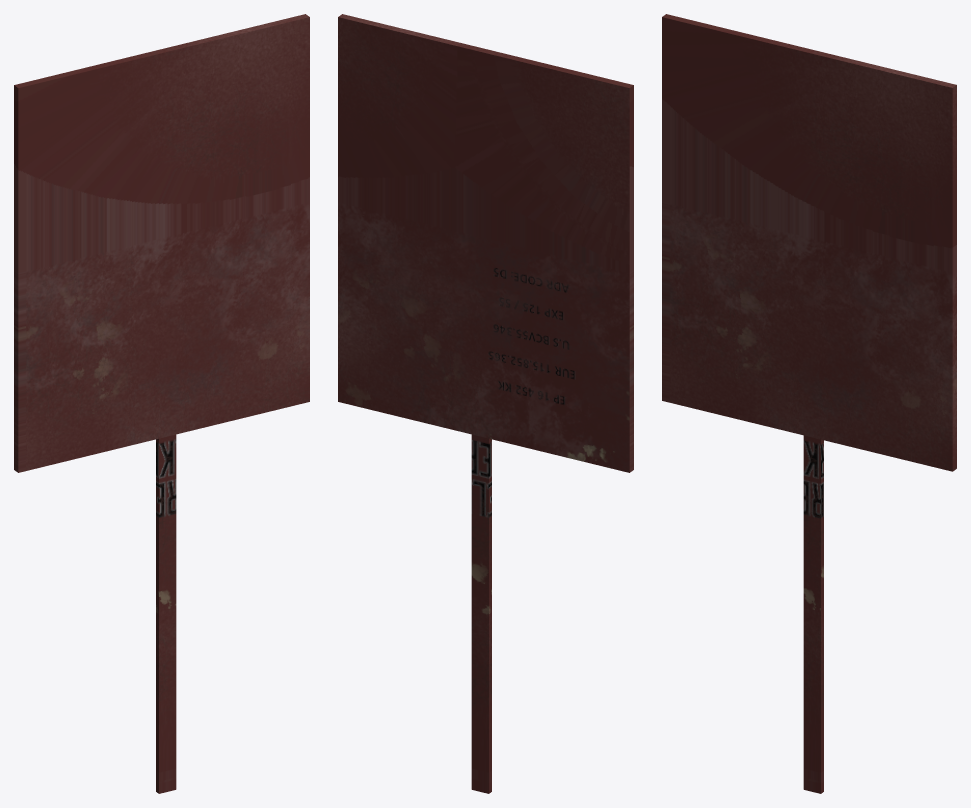
The model's file is CS_sign_02.FBX.
The picture shows the model from 3 angles, left to right: view 1: azimuth 30°, elevation 25°; view 2: azimuth 150°, elevation 25°; view 3: azimuth 330°, elevation 25°; orthographic projection.
Visible parts, largest first — view 1: SM_sign_02; view 2: SM_sign_02; view 3: SM_sign_02.
Part boxes in pixels (x1,y1,x2,y2): SM_sign_02: (14, 14, 309, 793); SM_sign_02: (338, 14, 633, 793); SM_sign_02: (662, 14, 956, 793).
Size of the model in its own units: 84.36 by 2.12 by 205.
